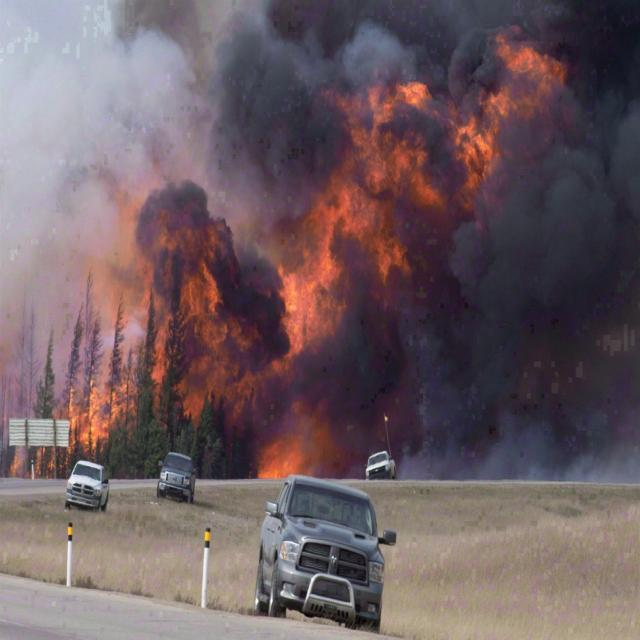Fire: (6, 367, 140, 478), (248, 430, 318, 486)
Smoke: (0, 0, 640, 484)
